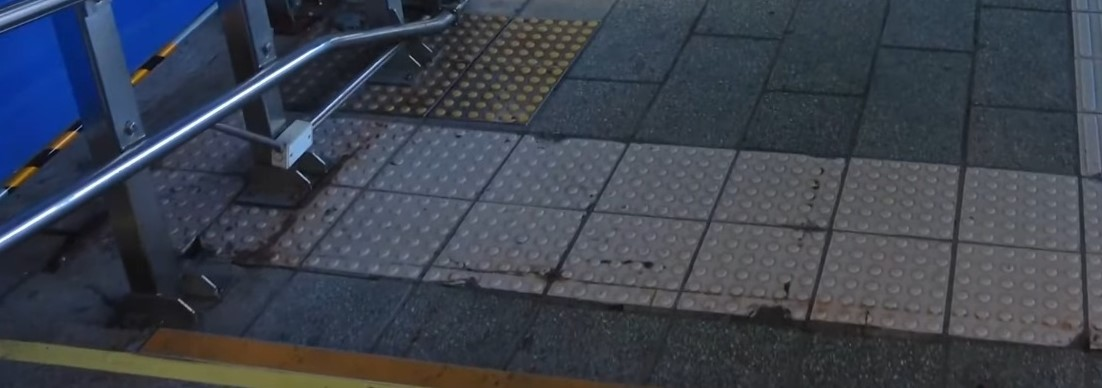warningBlock: (817, 231, 947, 328), (694, 217, 802, 315), (961, 250, 1083, 332), (442, 197, 557, 282), (562, 218, 685, 292), (345, 186, 438, 278), (971, 171, 1075, 247), (847, 159, 955, 224), (730, 149, 834, 213), (504, 141, 601, 208), (618, 146, 716, 210), (399, 136, 488, 191)
